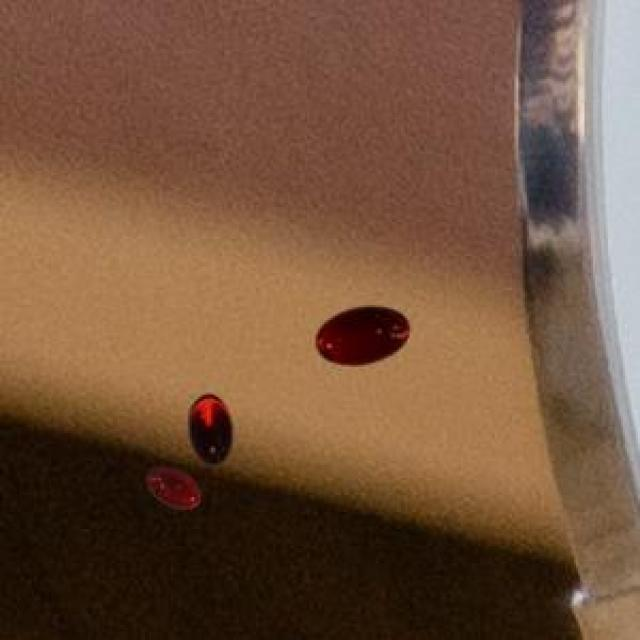Medicol: (137, 384, 250, 528), (300, 294, 424, 379)
